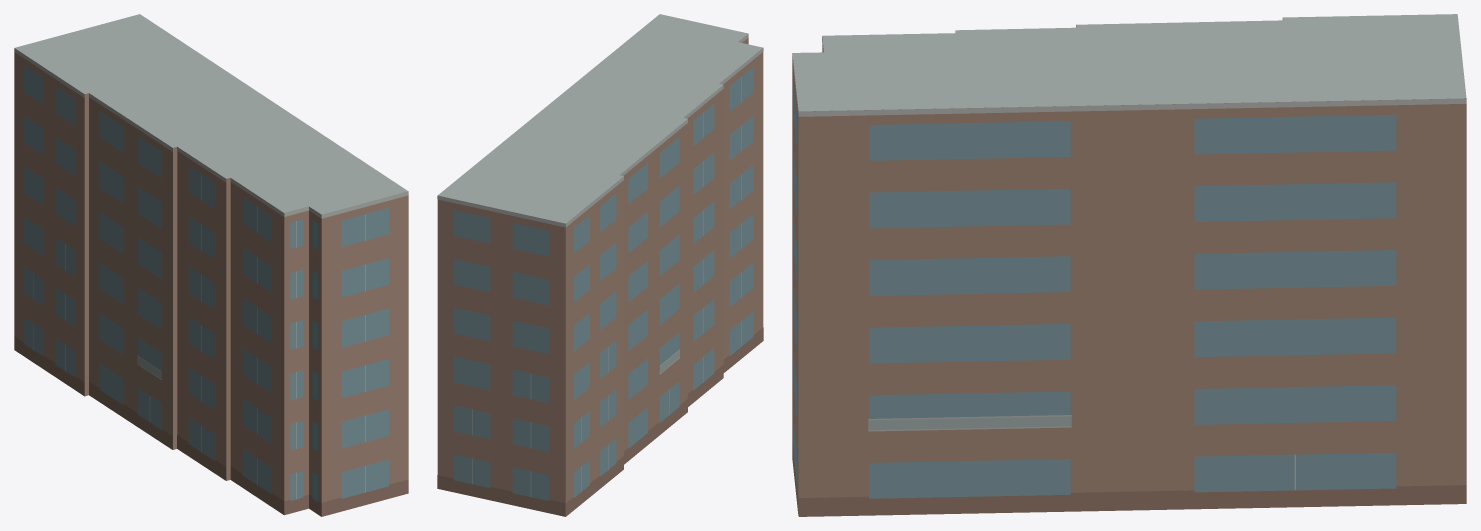
Rendered from survey-upis-32696326.glb.
3 renders of one model, left to right at view 1: azimuth 30°, elevation 25°; view 2: azimuth 150°, elevation 25°; view 3: azimuth 270°, elevation 25°, orthographic. The views are drawn at different scales.
Visible parts, largest first — view 1: survey-upis-32696326.tmp; view 2: survey-upis-32696326.tmp; view 3: survey-upis-32696326.tmp.
Boxes of the visible parts, box(x1,y1,x2,y2) form: survey-upis-32696326.tmp: box(14, 14, 408, 516); survey-upis-32696326.tmp: box(437, 14, 763, 516); survey-upis-32696326.tmp: box(792, 14, 1466, 516).
Bounding box in the file's own units: 9.44 × 18.3 × 27.58.
